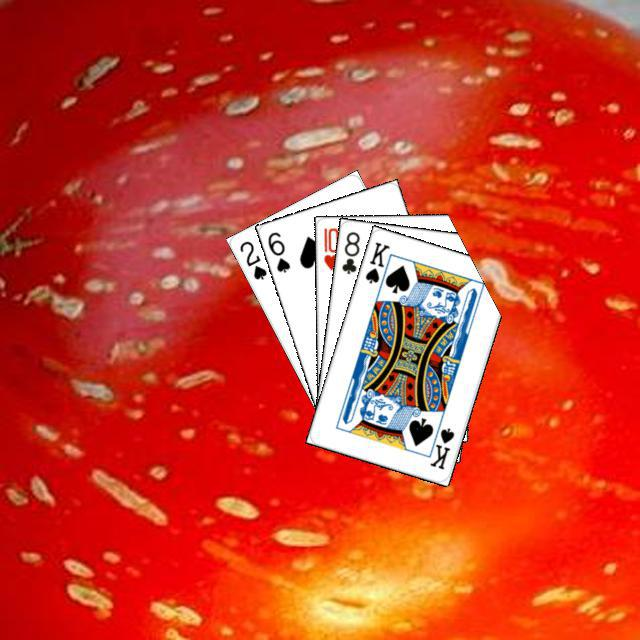10h: (319, 223, 340, 272)
2s: (235, 236, 269, 281)
6s: (263, 227, 292, 274)
8c: (337, 227, 362, 276)
Ks: (424, 417, 456, 471), (360, 237, 391, 285)
